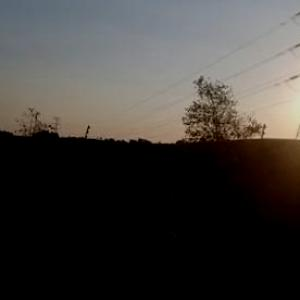follow: (126, 155, 190, 299)
